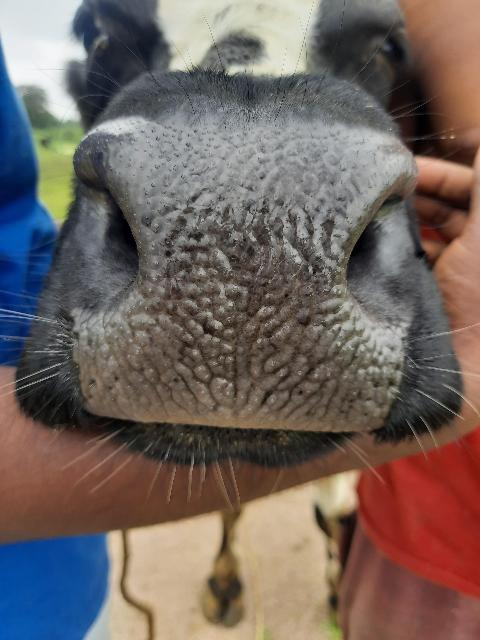Muzzle: (109, 140, 367, 432)
